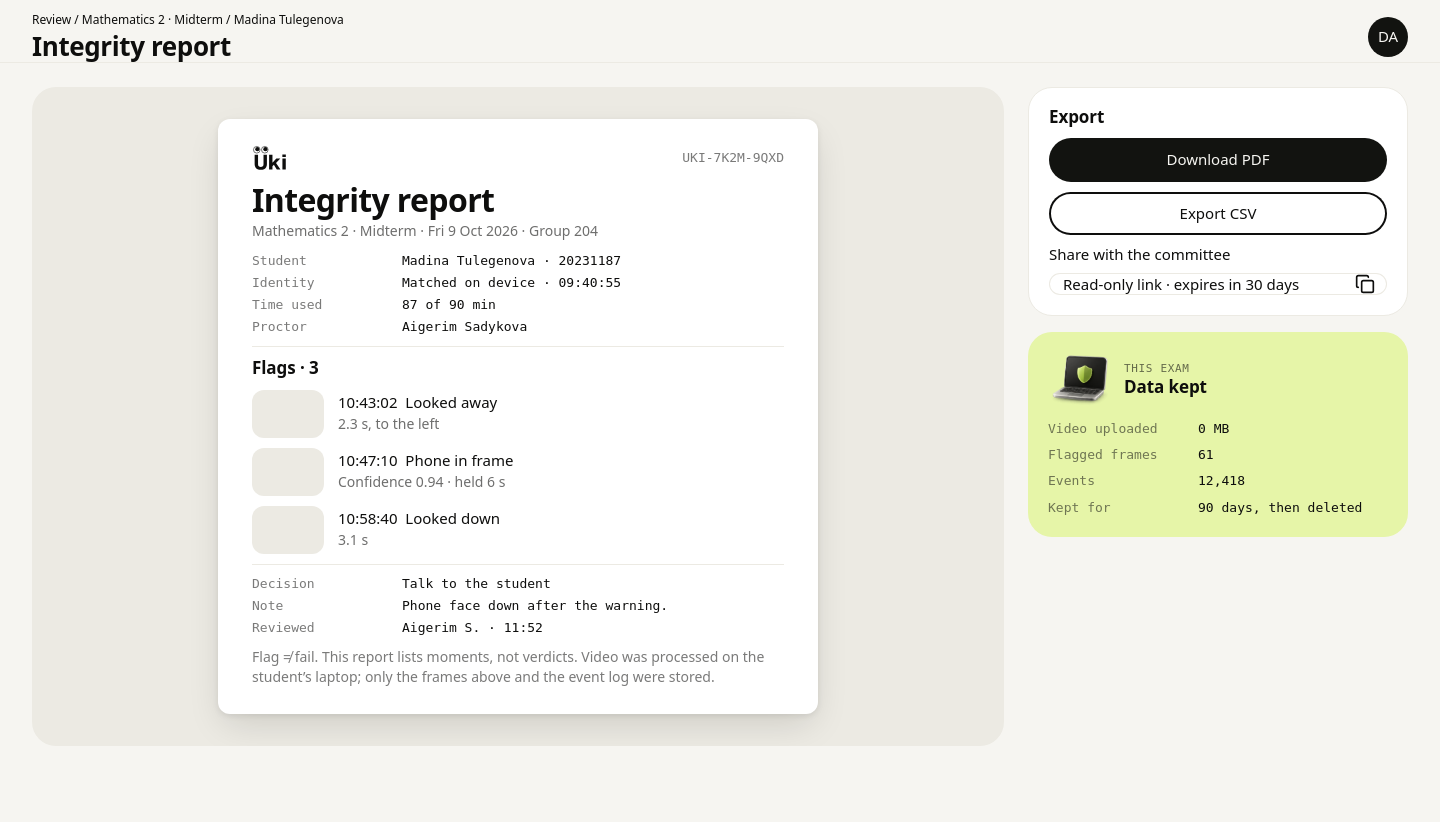
Test: 3.4 Integrity report › Revoke clears a link just made, and says when it failed
Click the button named "Share with the committee": (1204, 284) [1063, 273, 1345, 295]
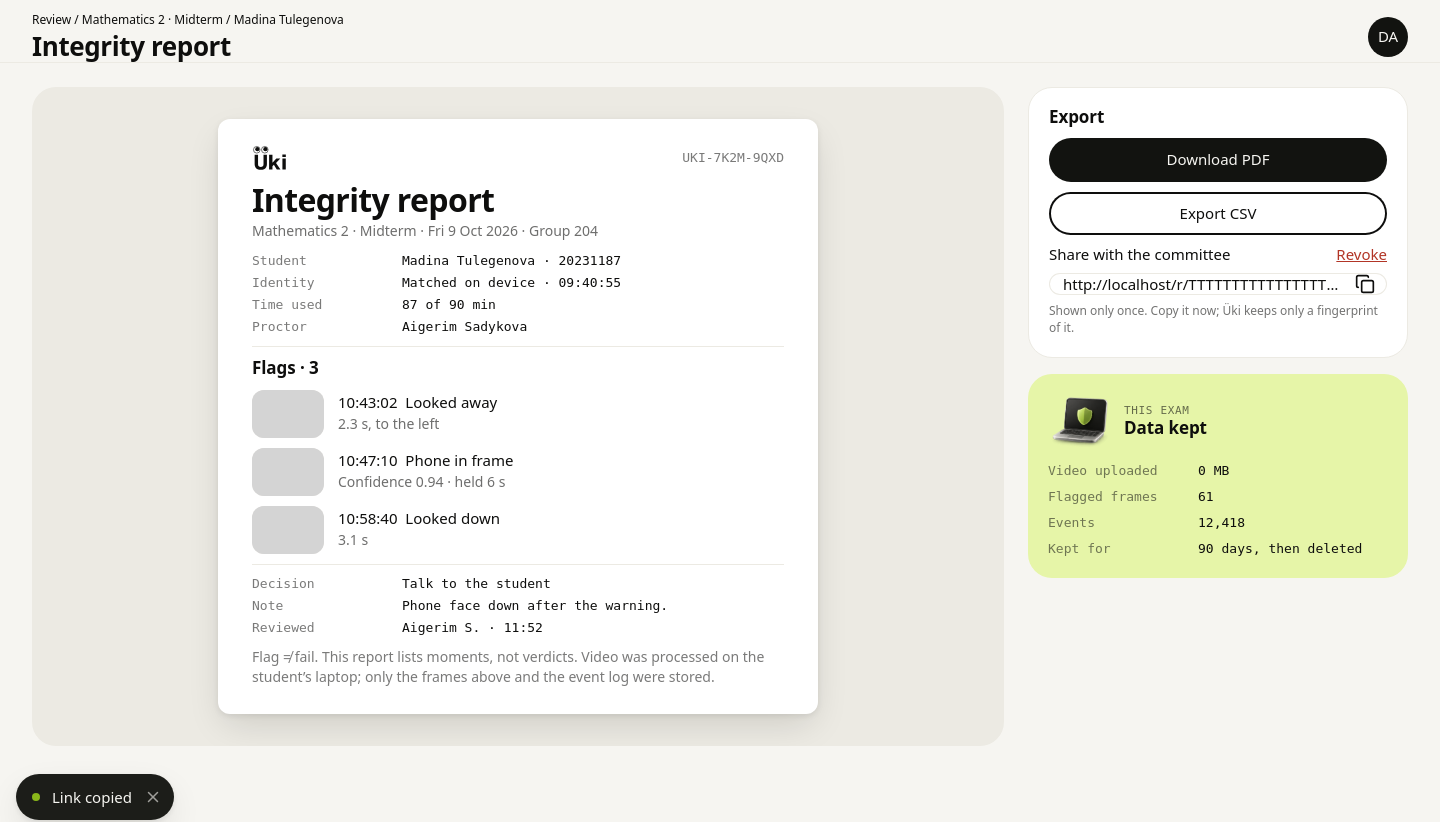
Expected: the field with test id "share-link" is shown, [1063, 273, 1345, 295]
Click the button with test id "share-revoke": (1362, 255) [1336, 245, 1387, 265]
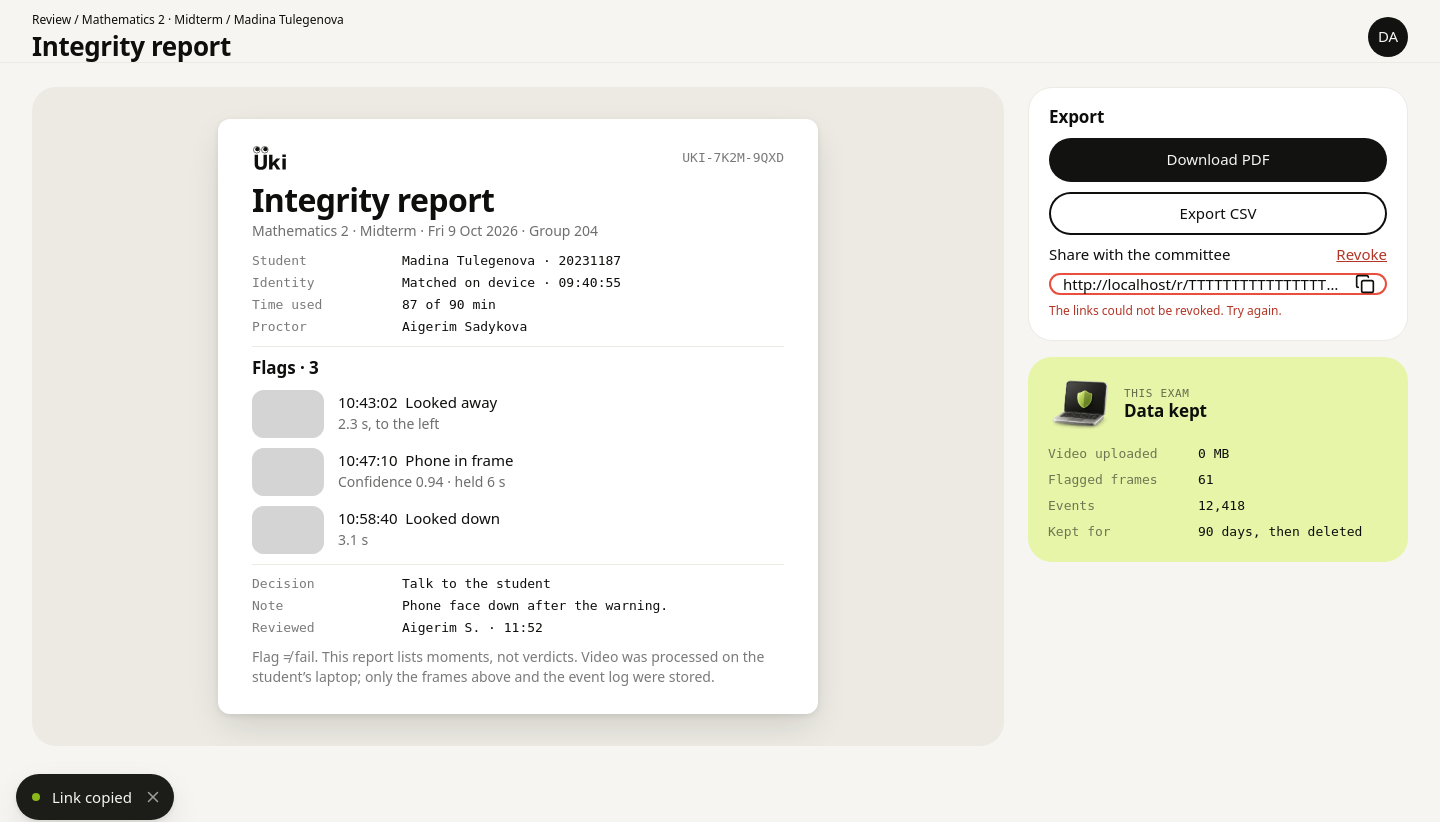
Expected: the field with test id "share-link" is shown, [1063, 273, 1345, 295]
Expected: the text "The links could not be revoked. Try again." is shown, [1049, 303, 1282, 320]
Click the button with test id "share-revoke": (1362, 255) [1336, 245, 1387, 265]
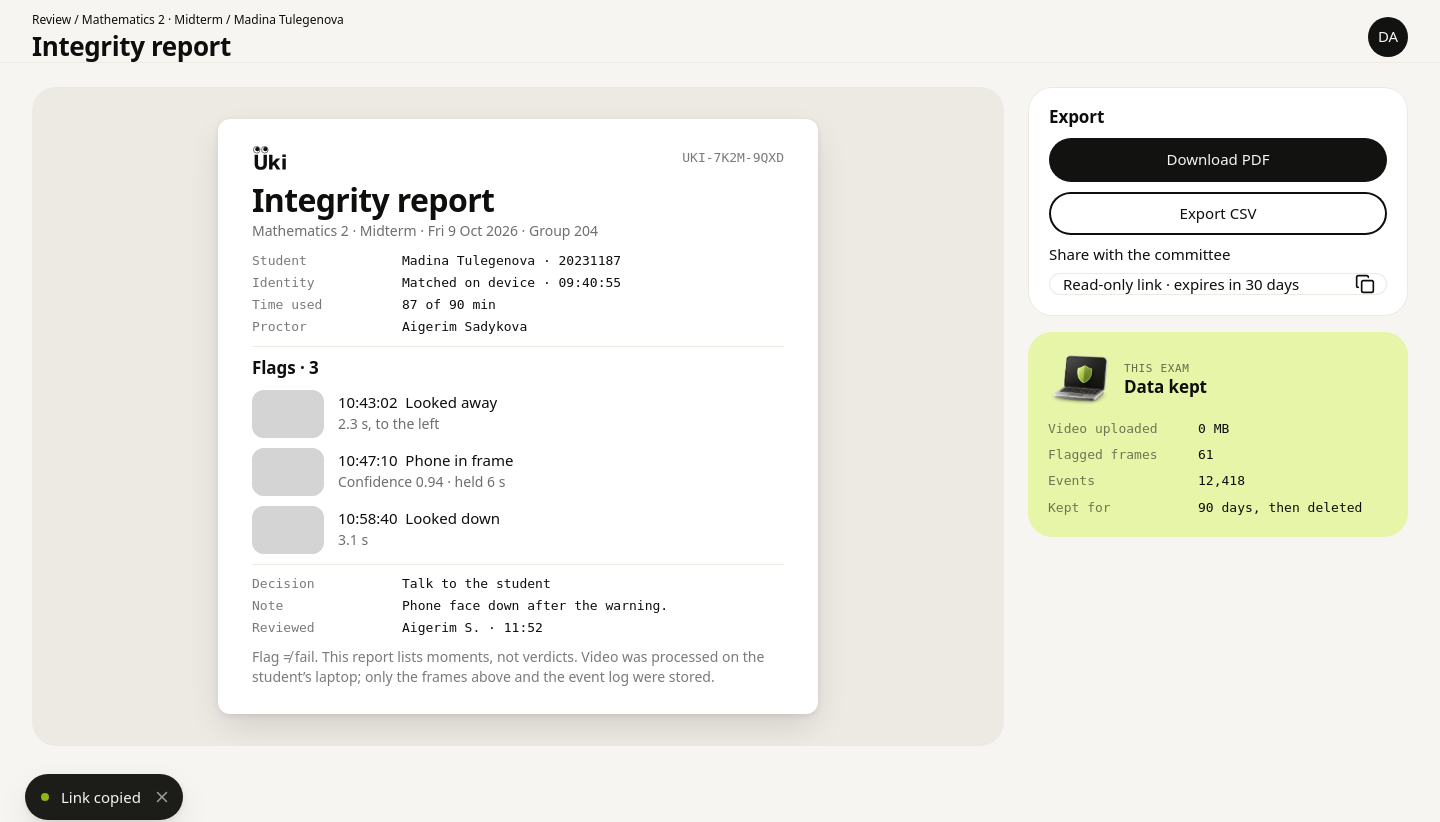
Expected: the field with test id "share-link" is gone
